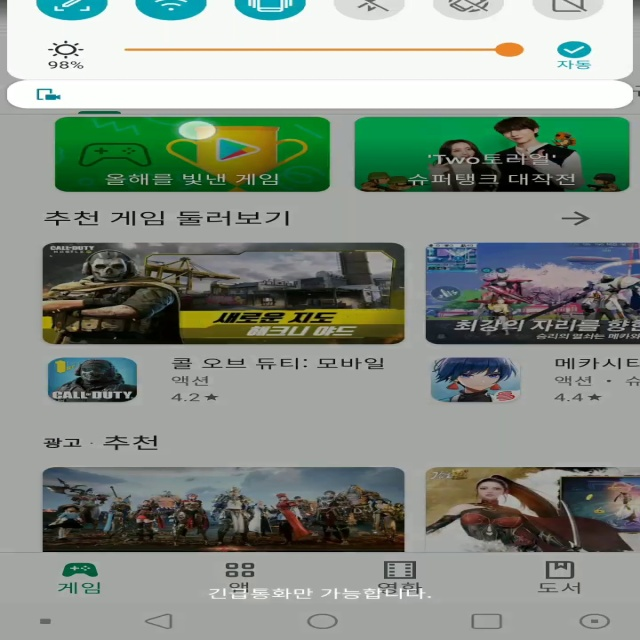Cursor: (175, 120, 219, 142)
